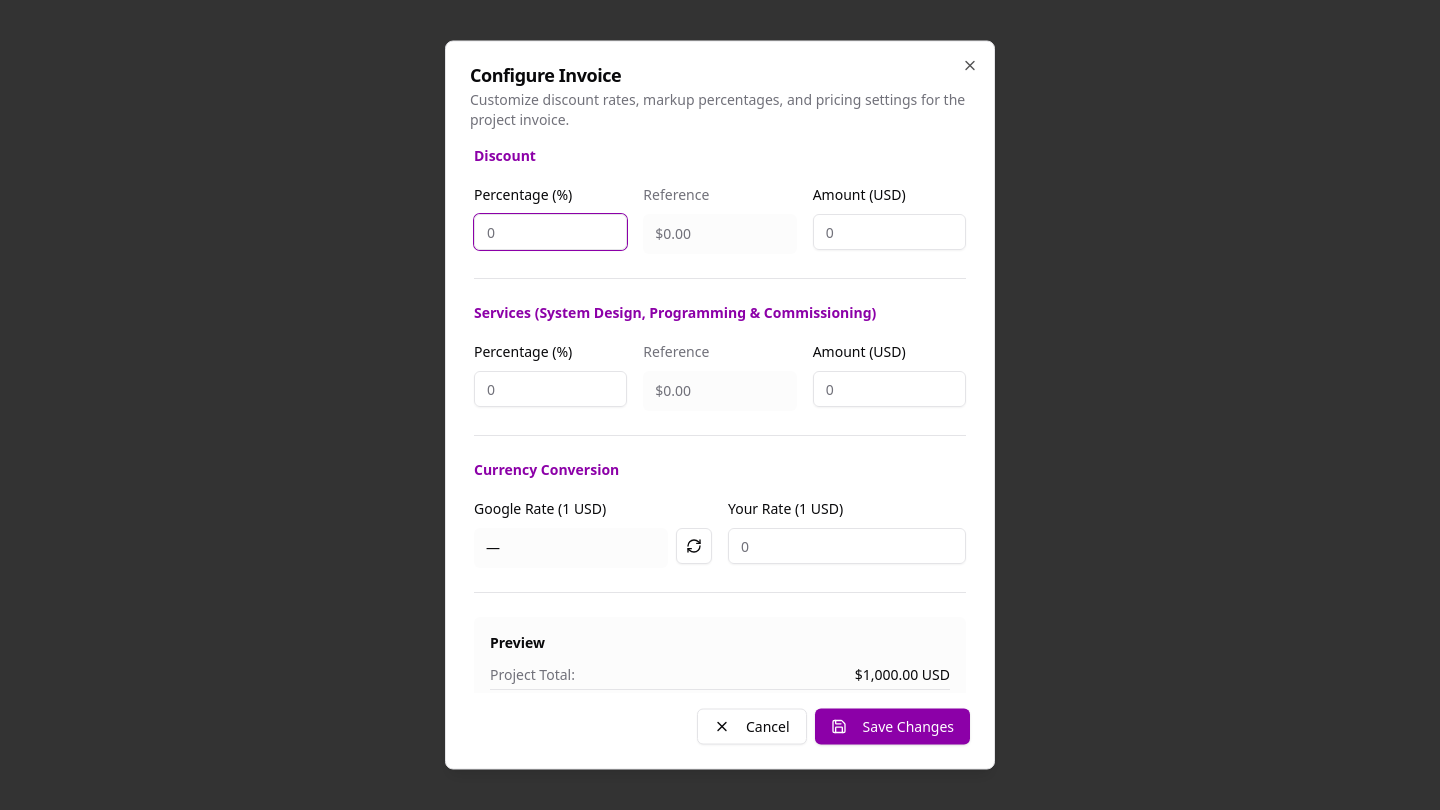
Test case: InvoiceSettingsModal › fetches exchange rate when refresh button is clicked
The width and height of the screenshot is (1440, 810).
Click the refresh button to fetch exchange rate
Click the button named "Fetch exchange rate from Google" at [694, 546], box [676,528,712,564]
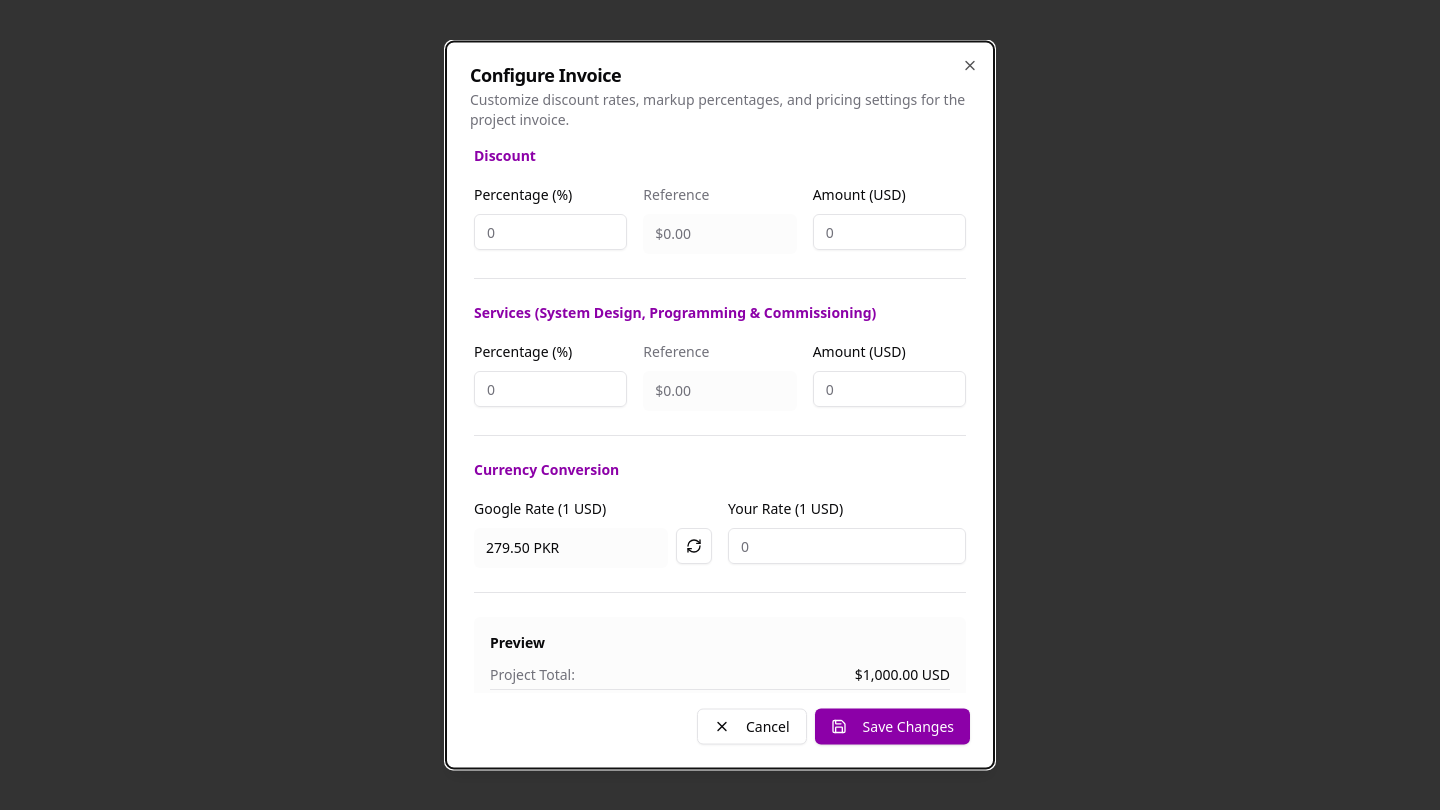
Result: the text "279.50 PKR" is shown at [474,528,668,568]
